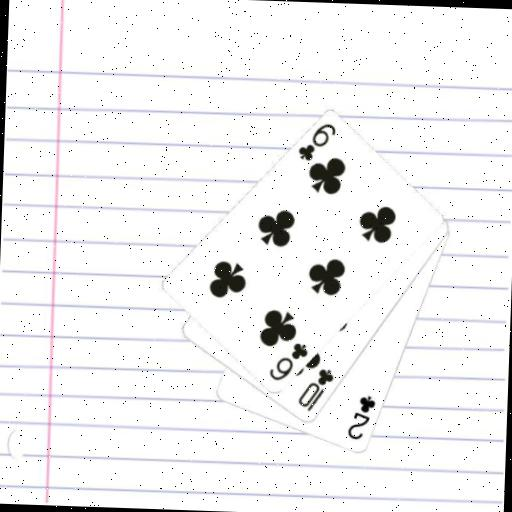10C: (294, 364, 336, 414)
2C: (344, 391, 378, 442)
6C: (266, 339, 310, 384), (295, 120, 338, 164)
